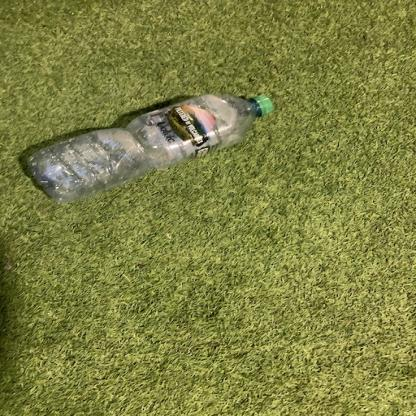trash: (24, 90, 274, 204)
